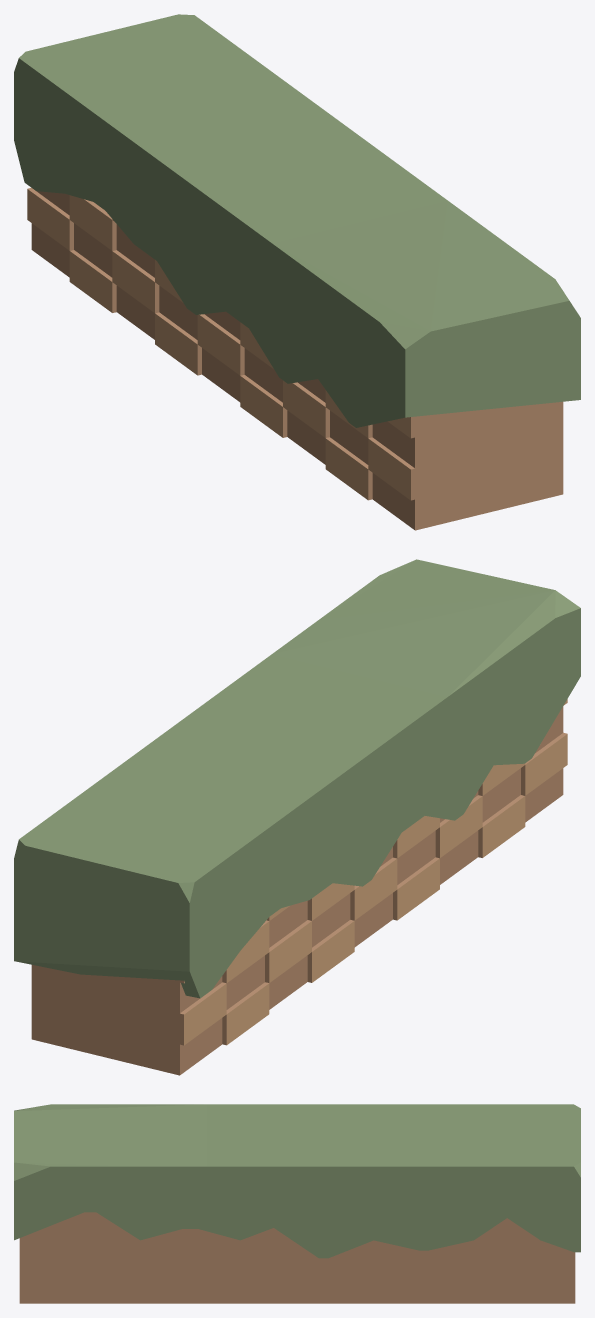
File: Pijakan rill.dae
The picture shows the model from 3 angles, top to bottom: view 1: azimuth 30°, elevation 25°; view 2: azimuth 150°, elevation 25°; view 3: azimuth 270°, elevation 25°; orthographic projection. The views are drawn at different scales.
Parts seen in each view (by area): view 1: Cube.001, Cube; view 2: Cube.001, Cube; view 3: Cube.001, Cube.
Boxes of the visible parts, left/top/right/bottom form: Cube.001: left=14, top=14, right=580, bottom=427; Cube: left=27, top=187, right=563, bottom=530; Cube.001: left=14, top=559, right=580, bottom=998; Cube: left=31, top=699, right=567, bottom=1075; Cube.001: left=14, top=1104, right=580, bottom=1258; Cube: left=19, top=1212, right=575, bottom=1303.
Size of the model in its own units: 2.37 by 9.14 by 2.56.
